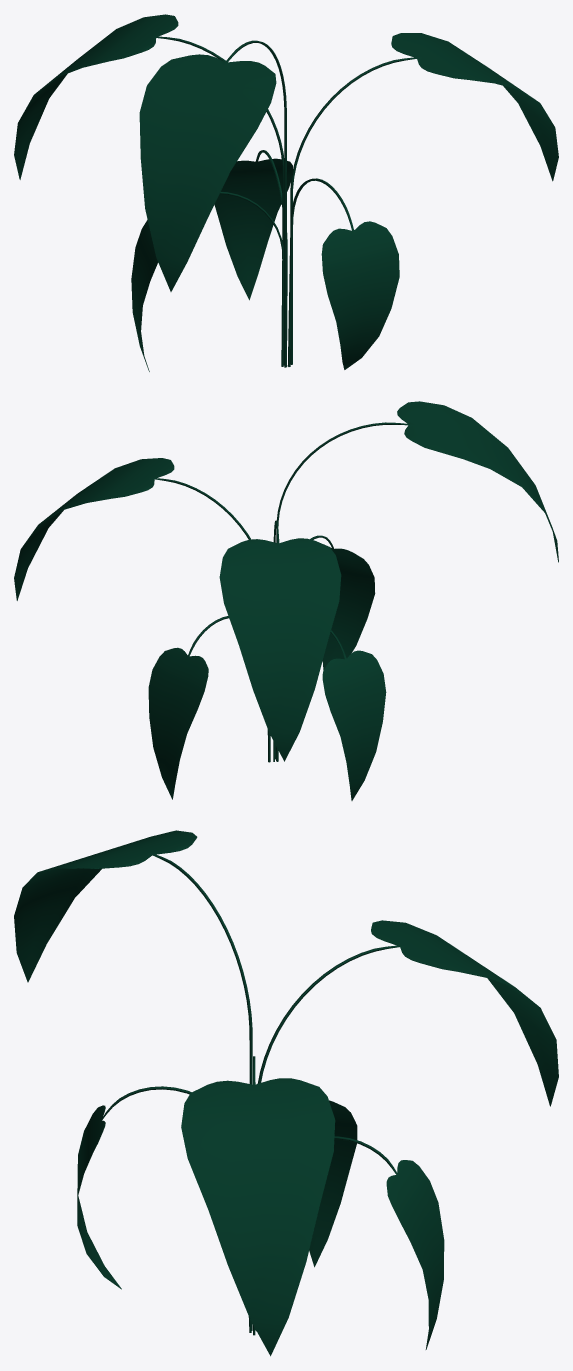
Rendered from fern1.fbx.
3 renders of one model, top to bottom at view 1: azimuth 30°, elevation 25°; view 2: azimuth 150°, elevation 25°; view 3: azimuth 270°, elevation 25°, orthographic. The views are drawn at different scales.
Parts seen in each view (by area): view 1: jungleBush1_low; view 2: jungleBush1_low; view 3: jungleBush1_low.
Boxes of the visible parts, <box> form: jungleBush1_low: <box>14,14,558,371</box>; jungleBush1_low: <box>14,401,558,800</box>; jungleBush1_low: <box>14,830,558,1356</box>.
Bounding box in the file's own units: 111 × 78.37 × 91.75.
